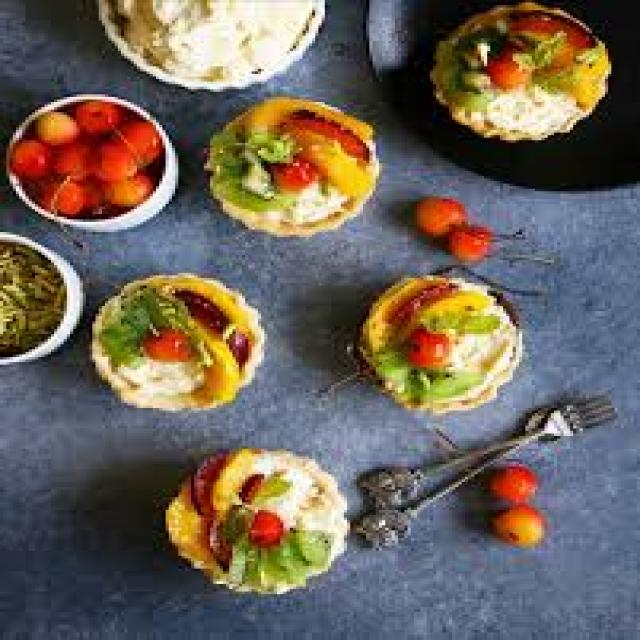Organik: (439, 2, 626, 137), (366, 271, 527, 410), (98, 283, 256, 417), (212, 97, 379, 223), (185, 458, 340, 586), (20, 92, 163, 222), (0, 242, 54, 352), (502, 466, 550, 554)
